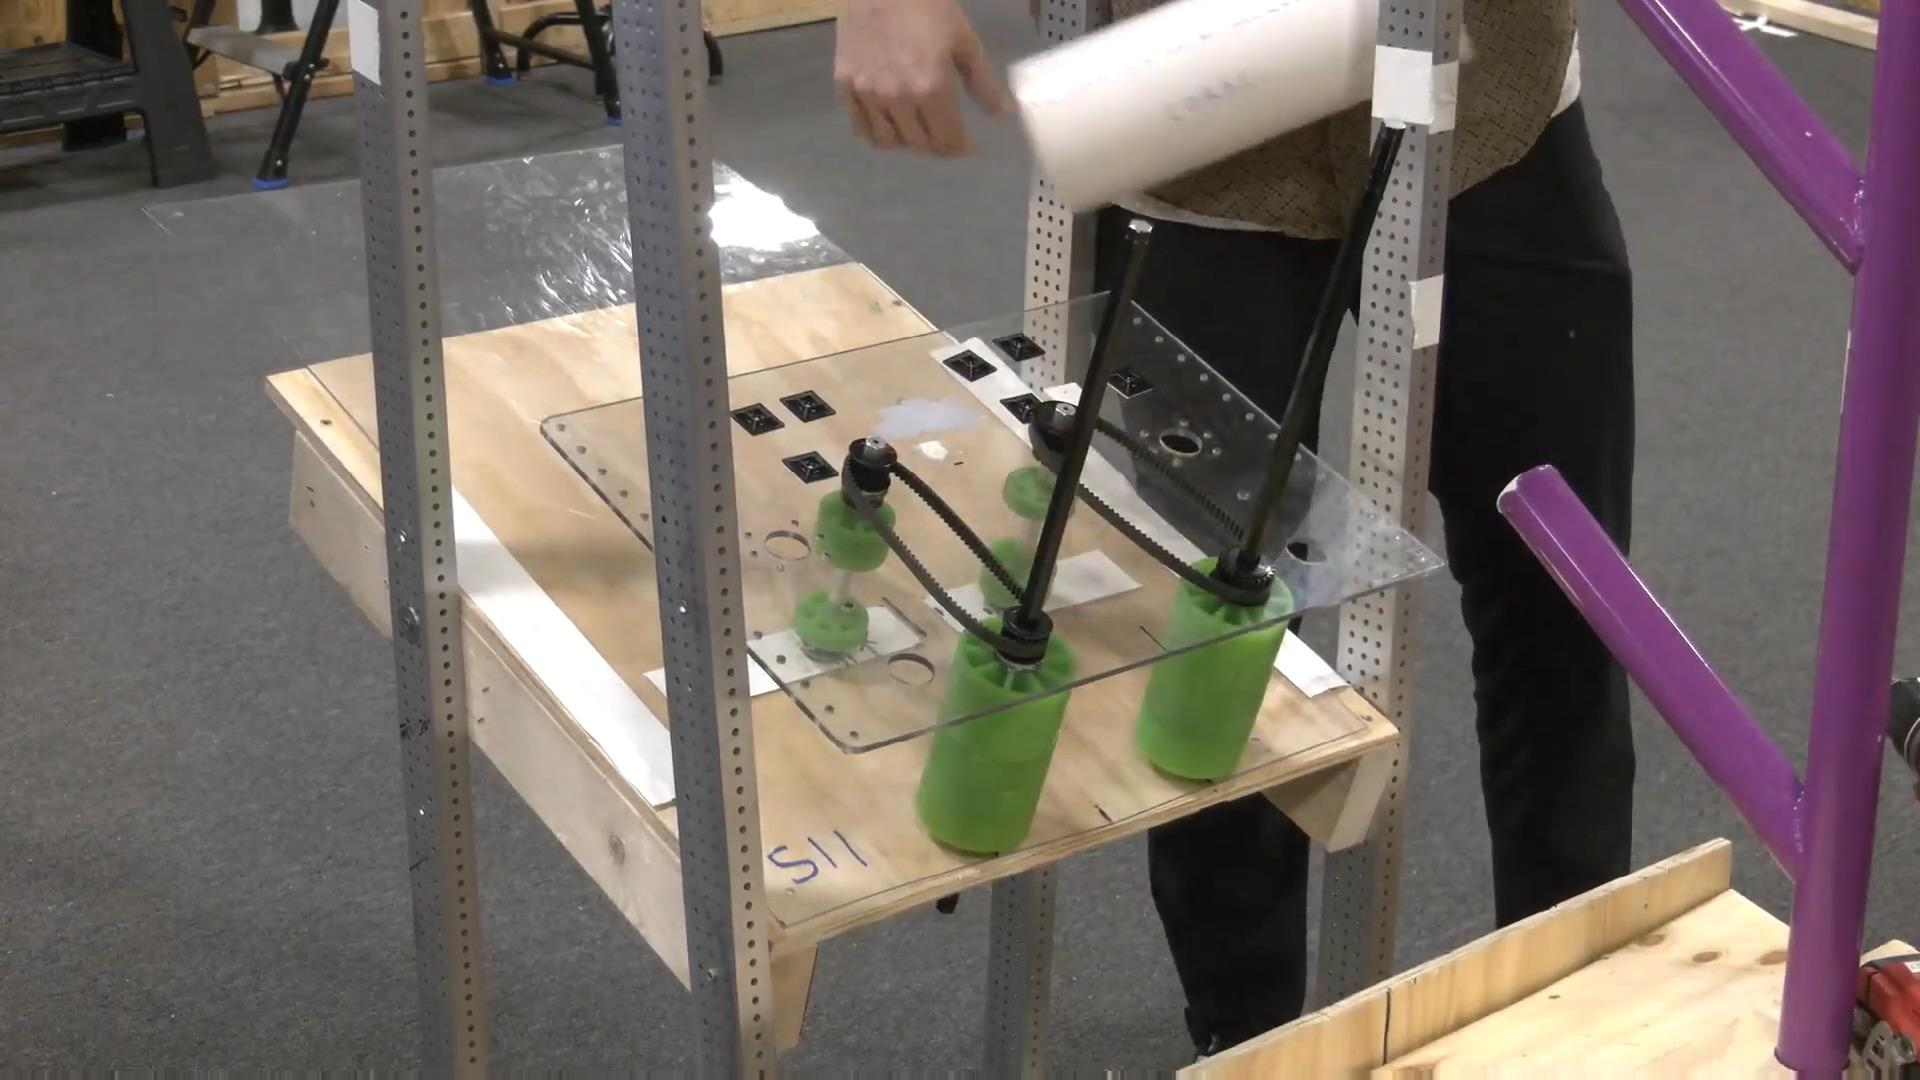coral: (1005, 0, 1384, 214)
